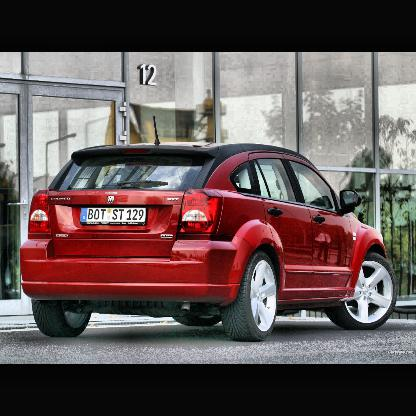Dodge Caliber Wagon 2012: (20, 142, 399, 343)
